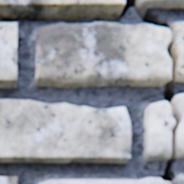brick: (0, 101, 130, 164), (0, 0, 124, 16), (0, 24, 17, 88), (137, 0, 183, 9), (0, 177, 17, 183)
broken_brick: (35, 23, 170, 89), (143, 102, 174, 162), (170, 23, 183, 83), (172, 95, 183, 159), (41, 179, 168, 183), (173, 175, 183, 183)
crack: (1, 0, 181, 183)
